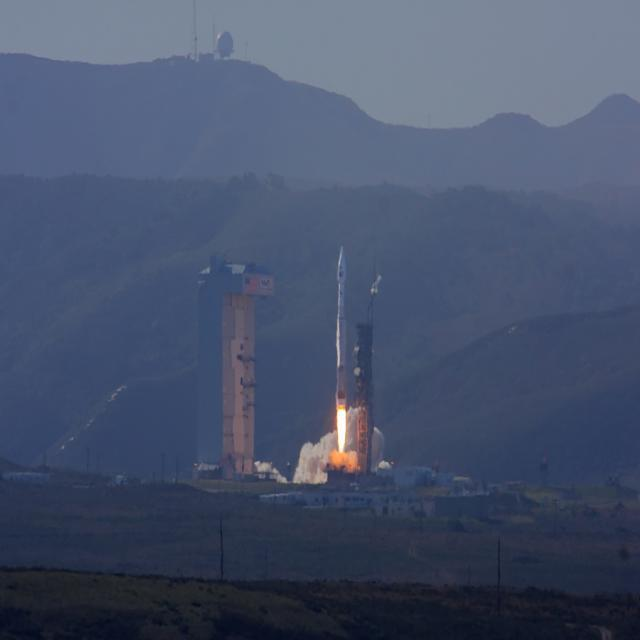missile: (326, 239, 366, 436)
